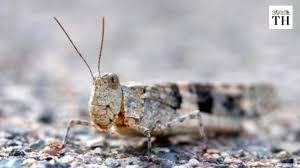Insects: (50, 11, 280, 161)
